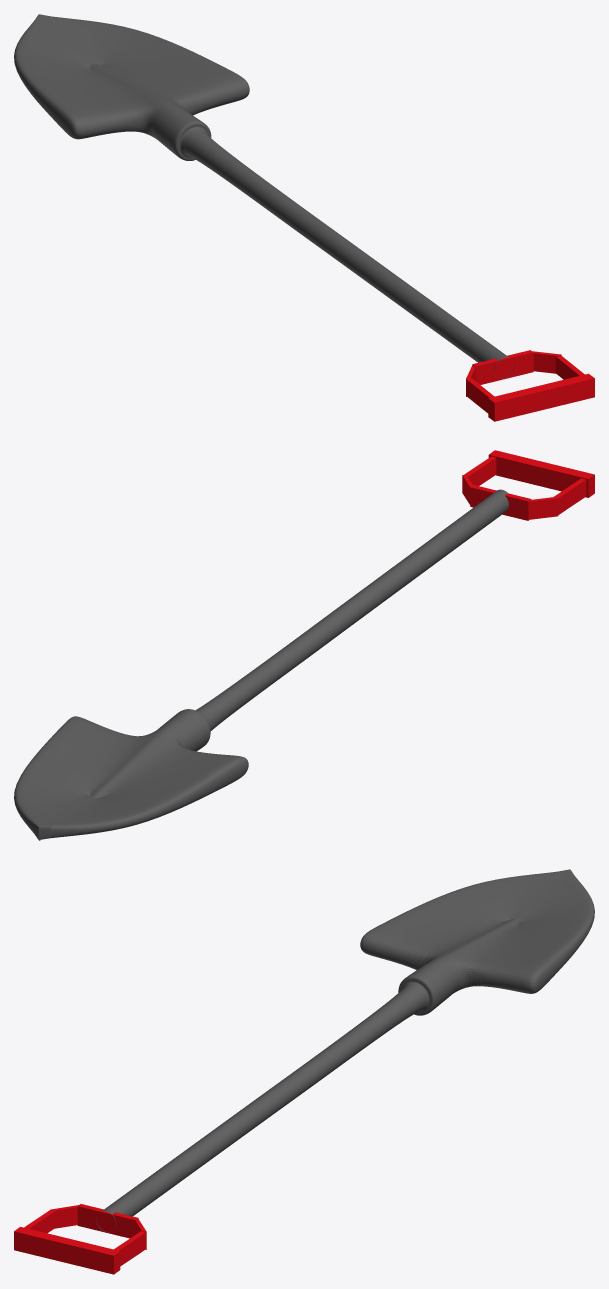
File: ShovelV4.fbx
3 renders of one model, top to bottom at view 1: azimuth 30°, elevation 25°; view 2: azimuth 150°, elevation 25°; view 3: azimuth 330°, elevation 25°, orthographic.
Parts seen in each view (by area): view 1: shovel, tophandle, baseHandle, tophandle.001; view 2: shovel, tophandle, baseHandle, tophandle.001, baseHandle.002, tophandle.002; view 3: shovel, tophandle, baseHandle, tophandle.002.
Part boxes in pixels (bbox=[...]): shovel: bbox=[14, 14, 514, 378]; tophandle: bbox=[488, 373, 594, 421]; baseHandle: bbox=[472, 350, 533, 384]; tophandle.001: bbox=[466, 378, 494, 413]; shovel: bbox=[14, 489, 508, 840]; tophandle: bbox=[488, 450, 594, 497]; baseHandle: bbox=[470, 485, 531, 520]; tophandle.001: bbox=[554, 478, 586, 515]; baseHandle.002: bbox=[528, 497, 558, 519]; tophandle.002: bbox=[464, 456, 496, 485]; shovel: bbox=[96, 869, 594, 1232]; tophandle: bbox=[14, 1227, 120, 1274]; baseHandle: bbox=[77, 1204, 138, 1238]; tophandle.002: bbox=[114, 1231, 145, 1266].
Bounding box in the file's own units: 787 × 166 × 3908.
